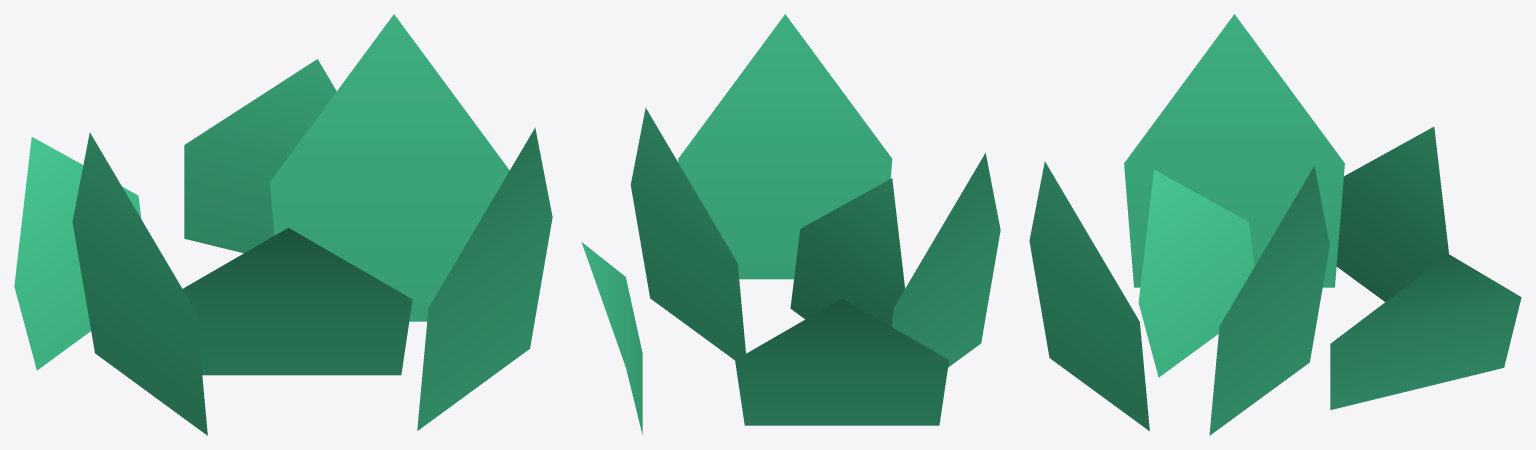
Rendered from grass.dae.
3 views of the same model, side by side, from view 1: azimuth 30°, elevation 25°; view 2: azimuth 150°, elevation 25°; view 3: azimuth 270°, elevation 25° (orthographic). The views are drawn at different scales.
Visible parts, largest first — view 1: grass; view 2: grass; view 3: grass.
Boxes of the visible parts, left/top/right/bottom form: grass: left=14, top=14, right=552, bottom=435; grass: left=581, top=14, right=1000, bottom=434; grass: left=1029, top=14, right=1521, bottom=435.
Size of the model in its own units: 0.2345 by 0.1425 by 0.2573.
